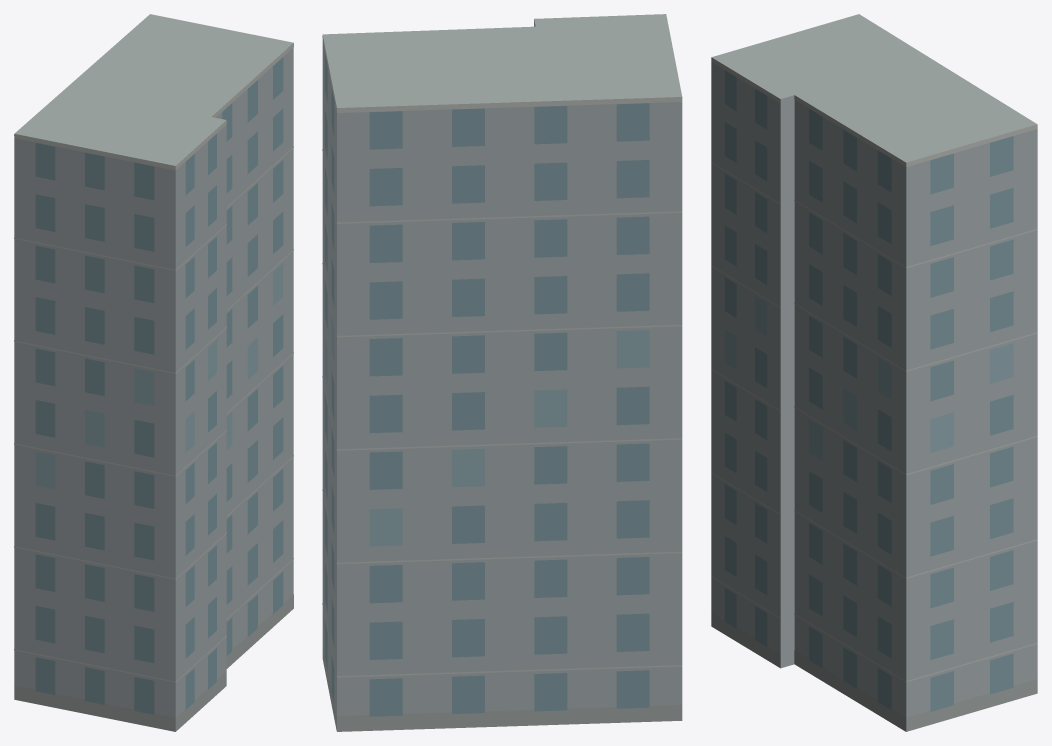
Rendered from survey-upis-32670686.glb.
3 views of the same model, side by side, from view 1: azimuth 30°, elevation 25°; view 2: azimuth 150°, elevation 25°; view 3: azimuth 270°, elevation 25° (orthographic). The views are drawn at different scales.
Visible parts, largest first — view 1: survey-upis-32670686.tmp; view 2: survey-upis-32670686.tmp; view 3: survey-upis-32670686.tmp.
Part boxes in pixels (left/top/right/bottom): survey-upis-32670686.tmp: left=14, top=14, right=293, bottom=731; survey-upis-32670686.tmp: left=322, top=14, right=682, bottom=731; survey-upis-32670686.tmp: left=711, top=14, right=1037, bottom=731.
Size of the model in its own units: 17.05 by 30.4 by 15.81.
